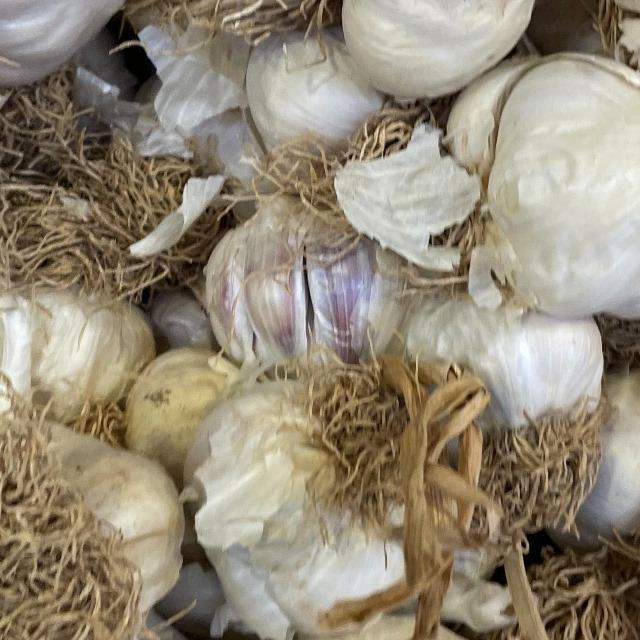garlic: (442, 22, 640, 330)
